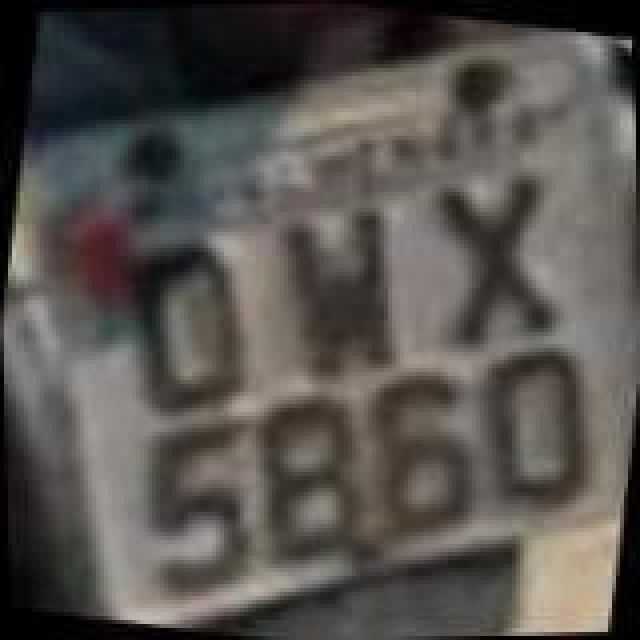5: (114, 396, 282, 604)
6: (348, 348, 492, 540)
8: (230, 376, 382, 568)
O: (104, 222, 272, 426), (462, 334, 610, 514)
W: (258, 194, 422, 398)
X: (404, 148, 584, 352)
